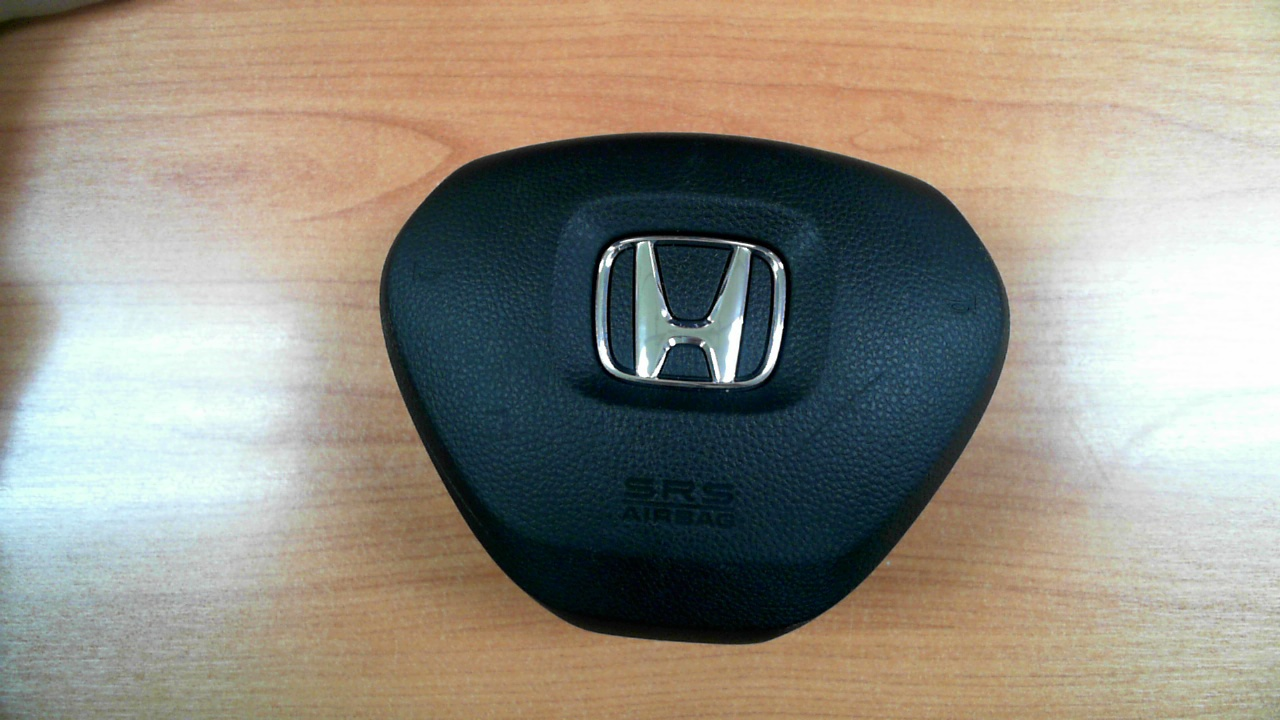Airbag: (377, 131, 1011, 646)
Honda: (596, 232, 787, 392)
